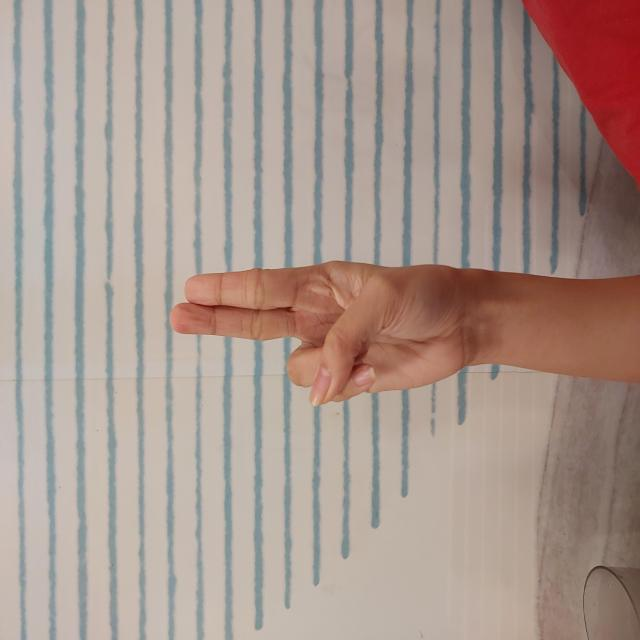U: (230, 167, 383, 479)
